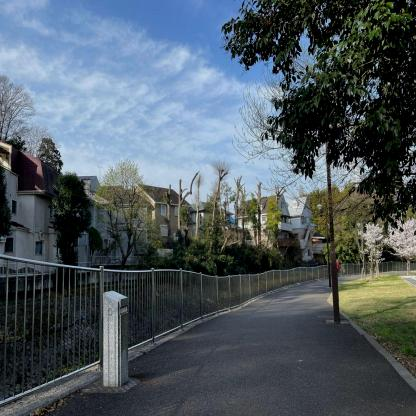Someiyoshino: (358, 208, 416, 273)
